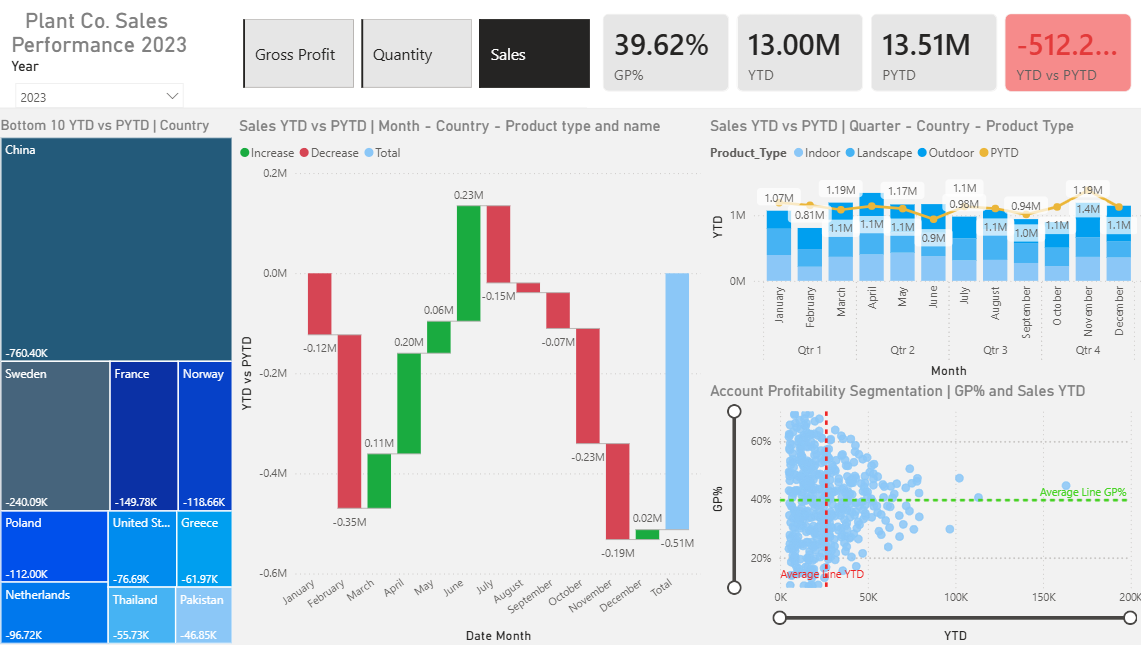

This screenshot's page, from the dashboard's own definition file:
{"tool":"powerbi","page":{"name":"Performance Report","canvas":[1280,720],"ordinal":0},"visuals":[{"type":"cardVisual","fields":{"Data":["_Measures.GP%","_Measures.S_YTD","_Measures.S_PYTD","_Measures.YTD vs PYTD"]},"box":[656.7,0,623.3,121.7],"z":0},{"type":"advancedSlicerVisual","fields":{"Values":["Slc_Values.Values"]},"box":[266.7,18.3,398.3,86.7],"z":1000},{"type":"treemap","title":"Bottom 10 YTD vs PYTD | Country","fields":{"Group":["Dim_Accounts.country"],"Values":["_Measures.YTD vs PYTD"]},"box":[0,132,267.2,590.1],"z":2000},{"type":"waterfallChart","fields":{"Y":["_Measures.YTD vs PYTD"],"Category":["Dim_Date.Date.Variation.Date Hierarchy.Month","Dim_Accounts.country","Dim_Product.Produt_Type","Dim_Product.Product_Name"]},"box":[265.6,132,523.3,588.5],"z":3000},{"type":"lineStackedColumnComboChart","fields":{"Y":["_Measures.S_YTD"],"Y2":["_Measures.S_PYTD"],"Category":["Dim_Date.Date.Variation.Date Hierarchy.Quarter","Dim_Date.Date.Variation.Date Hierarchy.Month"],"Series":["Dim_Product.Produt_Type"]},"box":[788.9,132,491.5,294.3],"z":4000},{"type":"scatterChart","fields":{"Y":["_Measures.GP%"],"X":["_Measures.S_YTD"],"Category":["Dim_Accounts.Account"]},"box":[788.9,426.3,491.5,294.3],"z":5000},{"type":"slicer","title":"Year","fields":{"Values":["Dim_Date.Date.Variation.Date Hierarchy.Year"]},"box":[11.1,66.8,206.8,65.2],"z":6000},{"type":"card","fields":{"Values":["_Measures._Report title"]},"box":[0,0,229,73.2],"z":7000}]}

Visuals, with their boxes in screenshot pixels (x1, y1, x2, y2), scaled from the page's 1280x720 canvas onto the 1141x645 screenshot:
cardVisual - _Measures.GP% x _Measures.S_YTD: {"x1": 585, "y1": 0, "x2": 1140, "y2": 109}
advancedSlicerVisual - Slc_Values.Values: {"x1": 238, "y1": 16, "x2": 593, "y2": 94}
"Bottom 10 YTD vs PYTD | Country" treemap: {"x1": 0, "y1": 118, "x2": 238, "y2": 644}
waterfallChart - _Measures.YTD vs PYTD x Dim_Date.Date.Variation.Date Hierarchy.Month: {"x1": 237, "y1": 118, "x2": 703, "y2": 644}
lineStackedColumnComboChart - _Measures.S_YTD x _Measures.S_PYTD: {"x1": 703, "y1": 118, "x2": 1140, "y2": 382}
scatterChart - _Measures.GP% x _Measures.S_YTD: {"x1": 703, "y1": 382, "x2": 1140, "y2": 644}
"Year" slicer: {"x1": 10, "y1": 60, "x2": 194, "y2": 118}
card - _Measures._Report title: {"x1": 0, "y1": 0, "x2": 204, "y2": 66}
